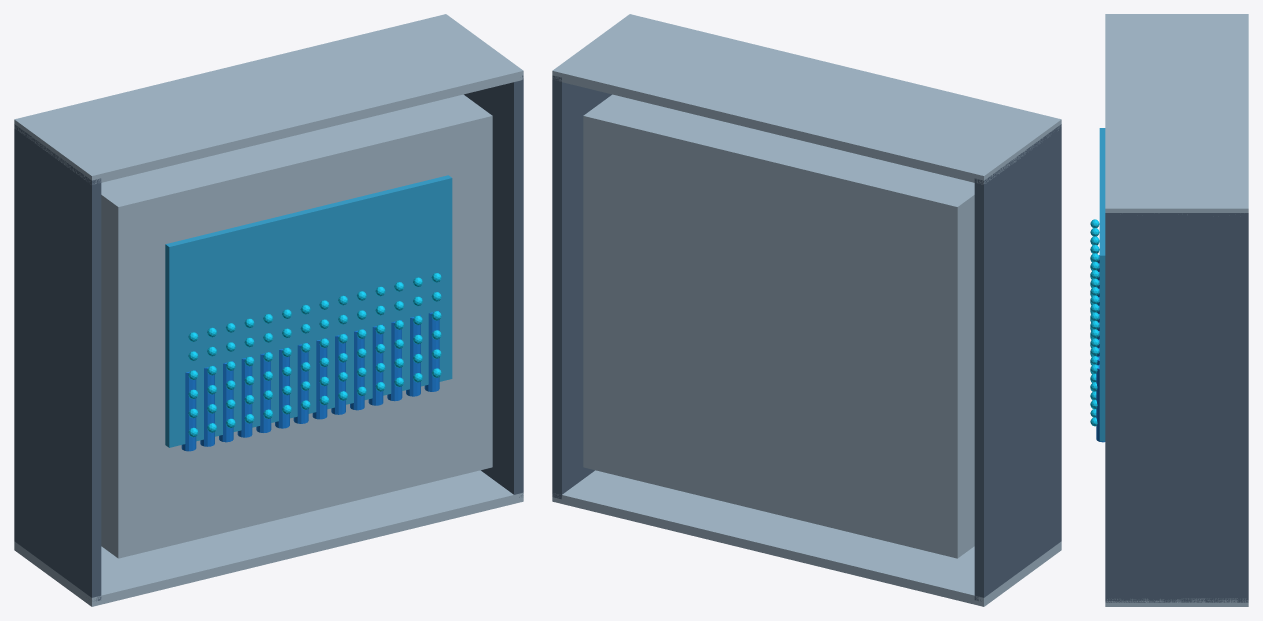
Rendered from 28_L88_O2WaterElectrolysisChamber.fbx.
The picture shows the model from 3 angles, left to right: view 1: azimuth 30°, elevation 25°; view 2: azimuth 150°, elevation 25°; view 3: azimuth 270°, elevation 25°; orthographic projection. The views are drawn at different scales.
Parts seen in each view (by area): view 1: L87_O2WaterElectrolysisChamber_Part_0001, L87_O2WaterElectrolysisChamber_Part_0000, L87_O2WaterElectrolysisChamber_Part_0002, L87_O2WaterElectrolysisChamber_Part_0003, L87_O2WaterElectrolysisChamber_Part_0005, L87_O2WaterElectrolysisChamber_Part_0007, L87_O2WaterElectrolysisChamber_Part_0006, L87_O2WaterElectrolysisChamber_Part_0004; view 2: L87_O2WaterElectrolysisChamber_Part_0001, L87_O2WaterElectrolysisChamber_Part_0000; view 3: L87_O2WaterElectrolysisChamber_Part_0000, L87_O2WaterElectrolysisChamber_Part_0001, L87_O2WaterElectrolysisChamber_Part_0002, L87_O2WaterElectrolysisChamber_Part_0007, L87_O2WaterElectrolysisChamber_Part_0003, L87_O2WaterElectrolysisChamber_Part_0006, L87_O2WaterElectrolysisChamber_Part_0005, L87_O2WaterElectrolysisChamber_Part_0004, L87_O2WaterElectrolysisChamber_Part_0008.
Part boxes in pixels (x1,y1,x2,y2): L87_O2WaterElectrolysisChamber_Part_0001: [14, 14, 523, 606]; L87_O2WaterElectrolysisChamber_Part_0000: [14, 75, 523, 601]; L87_O2WaterElectrolysisChamber_Part_0002: [165, 175, 452, 447]; L87_O2WaterElectrolysisChamber_Part_0003: [181, 310, 439, 451]; L87_O2WaterElectrolysisChamber_Part_0005: [244, 309, 310, 418]; L87_O2WaterElectrolysisChamber_Part_0007: [375, 277, 441, 391]; L87_O2WaterElectrolysisChamber_Part_0006: [300, 291, 366, 405]; L87_O2WaterElectrolysisChamber_Part_0004: [188, 323, 254, 437]; L87_O2WaterElectrolysisChamber_Part_0001: [552, 14, 1061, 606]; L87_O2WaterElectrolysisChamber_Part_0000: [552, 75, 1061, 601]; L87_O2WaterElectrolysisChamber_Part_0000: [1105, 213, 1248, 602]; L87_O2WaterElectrolysisChamber_Part_0001: [1105, 14, 1248, 606]; L87_O2WaterElectrolysisChamber_Part_0002: [1099, 128, 1105, 441]; L87_O2WaterElectrolysisChamber_Part_0007: [1090, 304, 1099, 426]; L87_O2WaterElectrolysisChamber_Part_0003: [1096, 255, 1105, 442]; L87_O2WaterElectrolysisChamber_Part_0006: [1090, 270, 1099, 391]; L87_O2WaterElectrolysisChamber_Part_0005: [1090, 244, 1099, 365]; L87_O2WaterElectrolysisChamber_Part_0004: [1090, 219, 1099, 339]; L87_O2WaterElectrolysisChamber_Part_0008: [1090, 329, 1099, 390].
Bounding box in the file's own units: 450 × 429 × 154.
